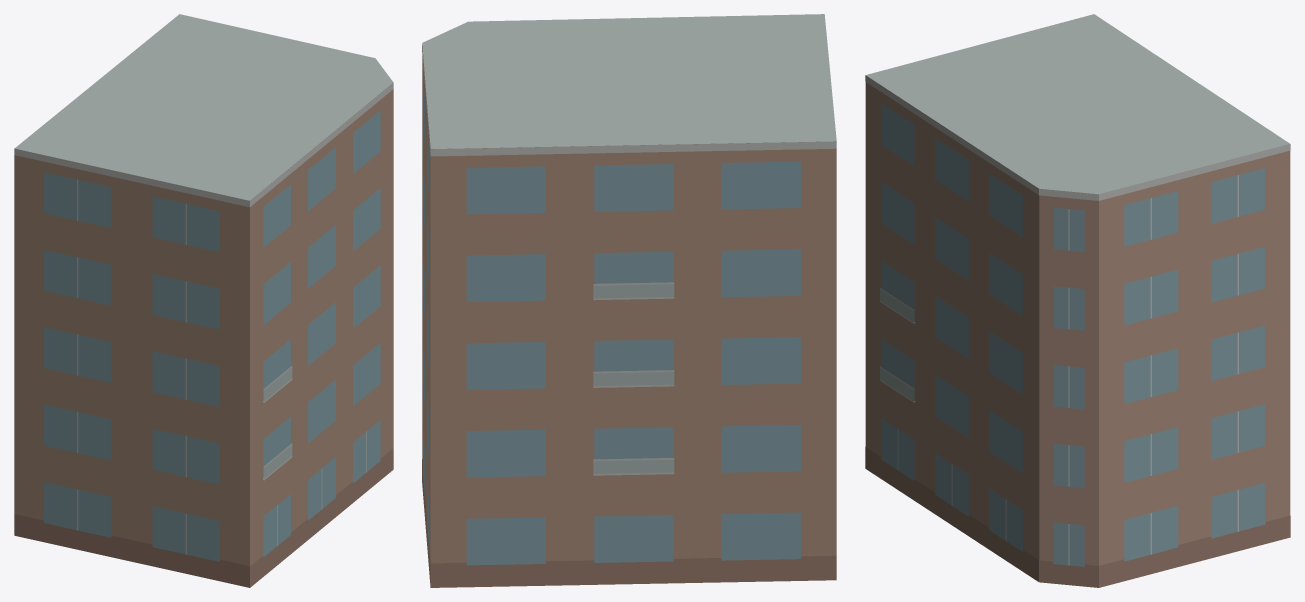
File: survey-upis-32952477.glb
The picture shows the model from 3 angles, left to right: view 1: azimuth 30°, elevation 25°; view 2: azimuth 150°, elevation 25°; view 3: azimuth 270°, elevation 25°; orthographic projection. The views are drawn at different scales.
Visible parts, largest first — view 1: survey-upis-32952477.tmp; view 2: survey-upis-32952477.tmp; view 3: survey-upis-32952477.tmp.
Part boxes in pixels (x1,y1,x2,y2): survey-upis-32952477.tmp: (14, 14, 393, 587); survey-upis-32952477.tmp: (422, 14, 836, 587); survey-upis-32952477.tmp: (865, 14, 1290, 587).
Bounding box in the file's own units: 14.26 × 14.5 × 14.2.
